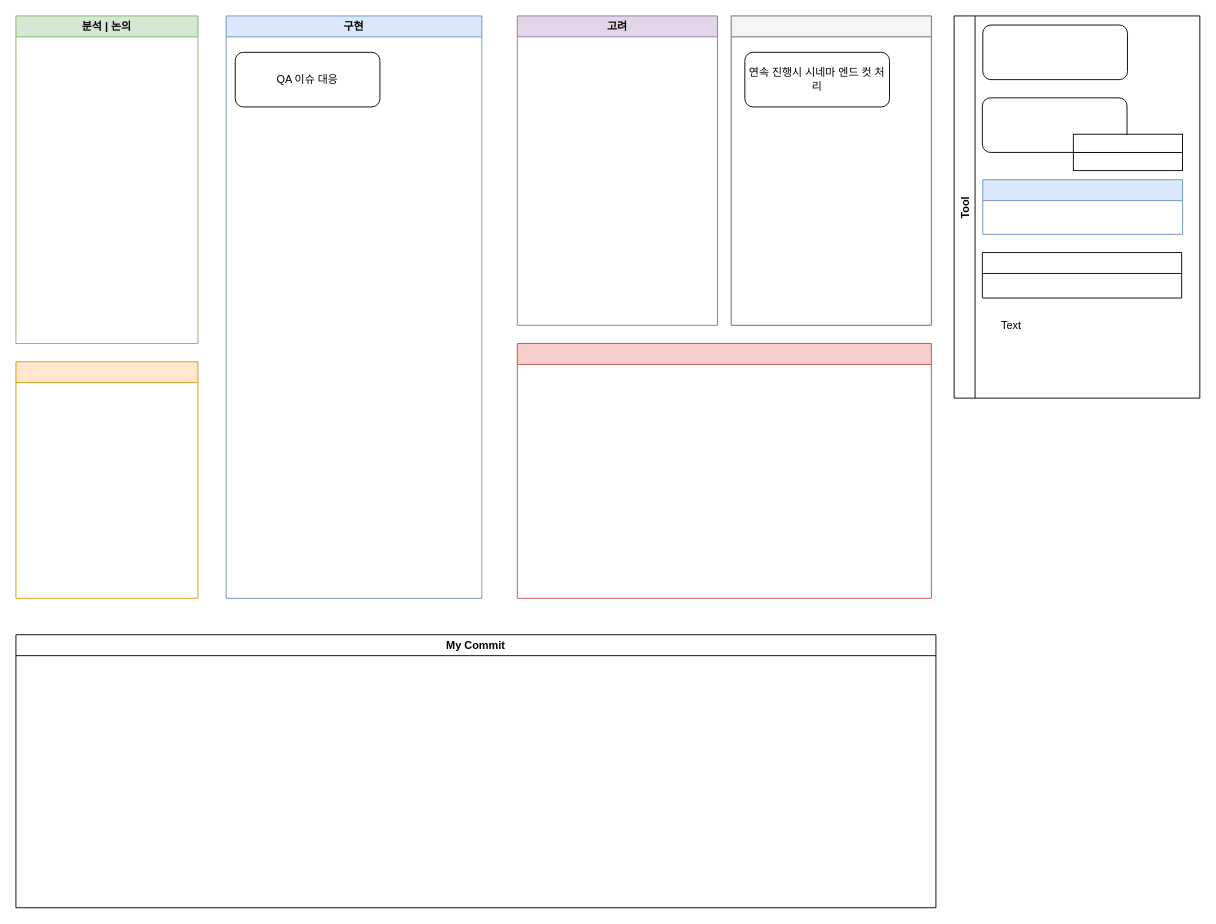
Some shapes in this 1216 by 924 pixel diagram are drawn without their labels. The shapes that lost their labels are listed below. From the top down, each one's box as (x1, y1, x2, y2) in pixels, then its label:
(730, 15, 931, 325): 폐기 | 완료
(15, 361, 198, 598): 대기 | 요청
(516, 343, 931, 598): 에러
